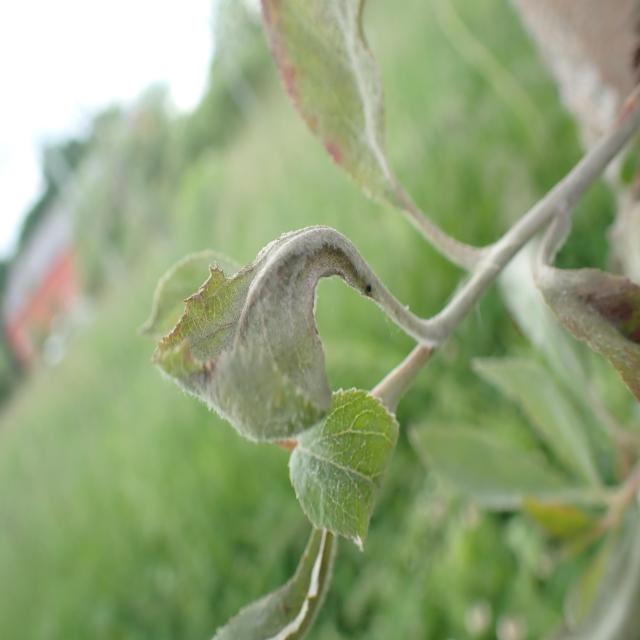Powdery_mildew: (142, 204, 404, 470), (254, 0, 444, 264), (524, 214, 640, 415)
